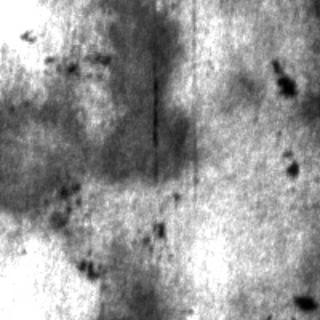inclusion: (262, 55, 302, 101), (49, 172, 82, 215), (72, 248, 100, 284), (288, 285, 318, 317), (278, 144, 302, 180)
patches: (93, 0, 185, 180), (0, 98, 86, 210), (101, 246, 177, 318)
